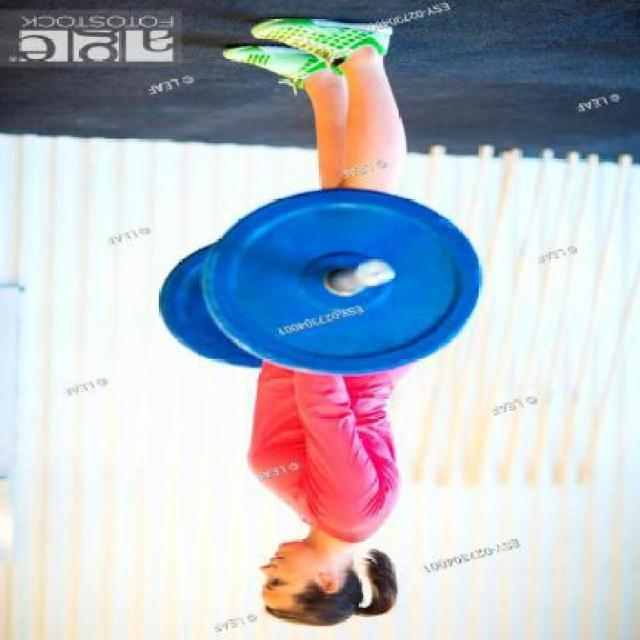Barbell: (334, 250, 408, 292)
